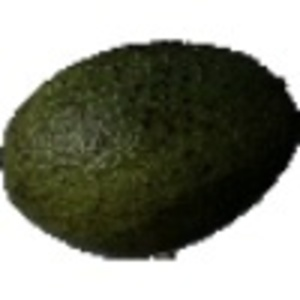abacate: (1, 35, 298, 260)
